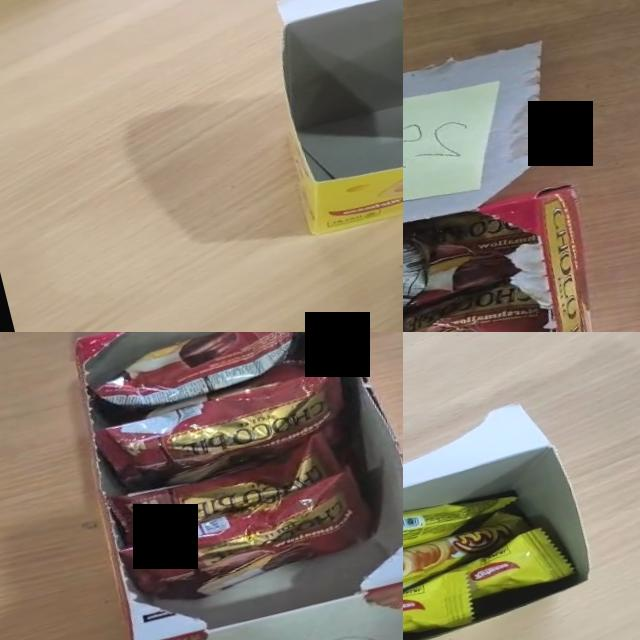Ahh: (403, 502, 542, 629), (403, 477, 523, 589), (440, 520, 577, 606), (403, 567, 479, 640)
Chocopie: (110, 462, 384, 616), (89, 362, 357, 502), (100, 426, 354, 550), (80, 332, 314, 421), (403, 196, 548, 308), (403, 275, 567, 332)
